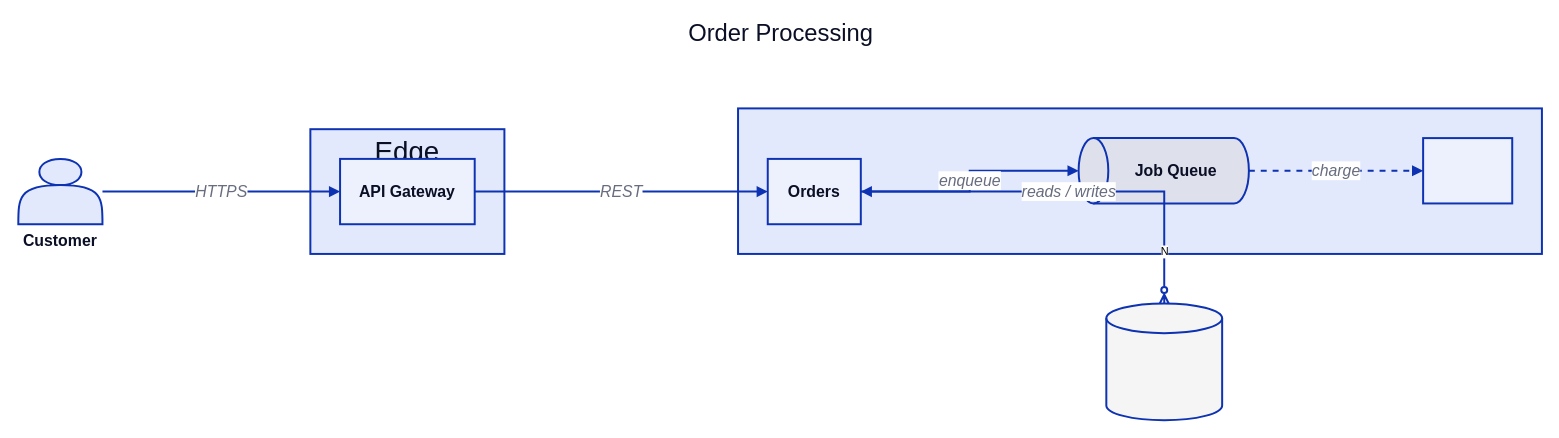
This 1559x438 diagram has some shape labels left out. Here are the shapes that lost their labels. From the top down, the box of each, then its label:
(737, 107, 1542, 254): Core Services
(1422, 137, 1513, 204): Billing
(1105, 302, 1223, 421): Orders DB
